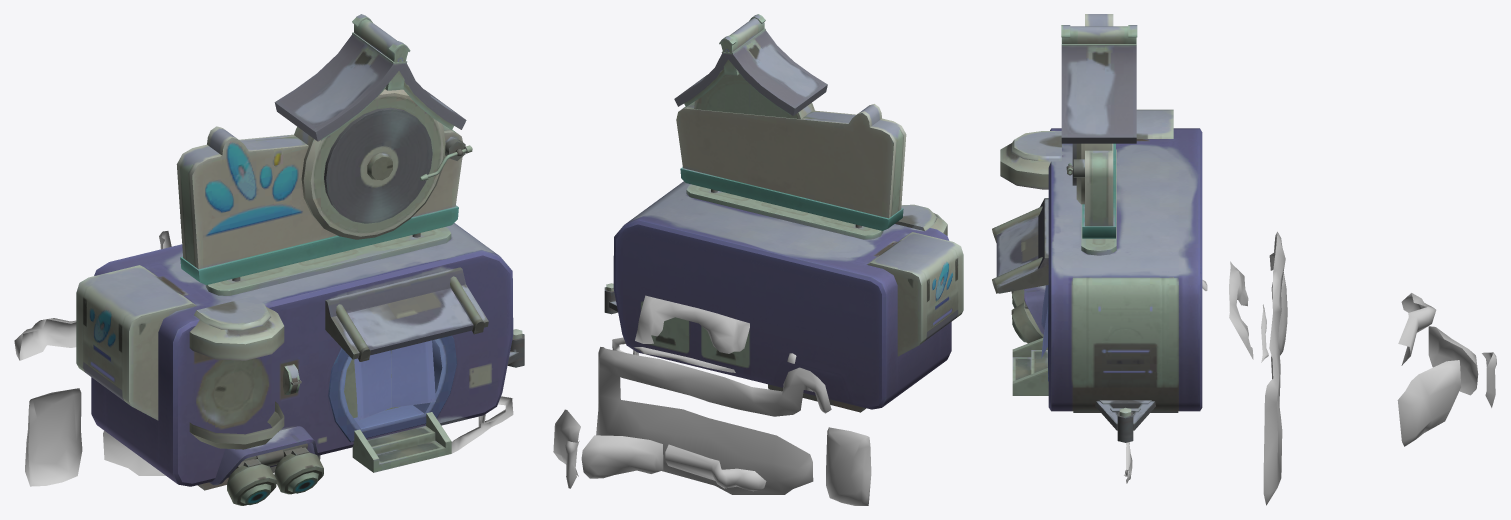
Rendered from pref_sm_city_bornbus01_snow_lv3.fbx.
The picture shows the model from 3 angles, left to right: view 1: azimuth 30°, elevation 25°; view 2: azimuth 150°, elevation 25°; view 3: azimuth 270°, elevation 25°; orthographic projection. The views are drawn at different scales.
Visible parts, largest first — view 1: sm_city_bornbus01_snow_lv3, sm_city_bornbus01b_snow_lv3; view 2: sm_city_bornbus01_snow_lv3, sm_city_bornbus01b_snow_lv3; view 3: sm_city_bornbus01_snow_lv3, sm_city_bornbus01b_snow_lv3.
Boxes of the visible parts, bbox=[...] form: sm_city_bornbus01_snow_lv3: bbox=[76, 14, 524, 505]; sm_city_bornbus01b_snow_lv3: bbox=[14, 231, 513, 486]; sm_city_bornbus01_snow_lv3: bbox=[604, 14, 963, 412]; sm_city_bornbus01b_snow_lv3: bbox=[553, 295, 871, 505]; sm_city_bornbus01_snow_lv3: bbox=[992, 14, 1202, 442]; sm_city_bornbus01b_snow_lv3: bbox=[1124, 231, 1496, 505].
Bounding box in the file's own units: 8.39 × 9.42 × 9.55.
